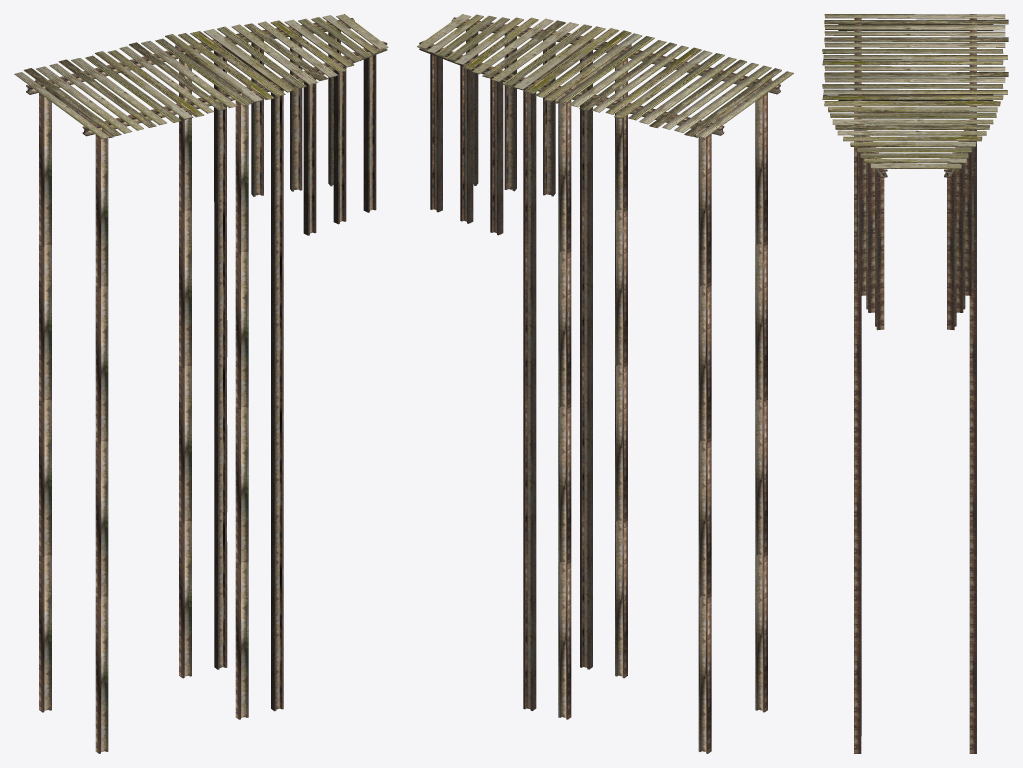
File: 6 Add.fbx
3 renders of one model, left to right at view 1: azimuth 30°, elevation 25°; view 2: azimuth 150°, elevation 25°; view 3: azimuth 270°, elevation 25°, orthographic. The views are drawn at different scales.
Visible parts, largest first — view 1: Ramp_001__19_.018, Ramp_001__19_.052; view 2: Ramp_001__19_.018, Ramp_001__19_.052; view 3: Ramp_001__19_.052, Ramp_001__19_.018.
Part boxes in pixels (bbox=[...]): Ramp_001__19_.018: bbox=[14, 33, 274, 753]; Ramp_001__19_.052: bbox=[190, 14, 388, 711]; Ramp_001__19_.018: bbox=[535, 30, 793, 753]; Ramp_001__19_.052: bbox=[417, 14, 619, 710]; Ramp_001__19_.052: bbox=[824, 101, 1000, 753]; Ramp_001__19_.018: bbox=[822, 14, 1008, 735].
Size of the model in its own units: 1218 by 2330 by 613.
